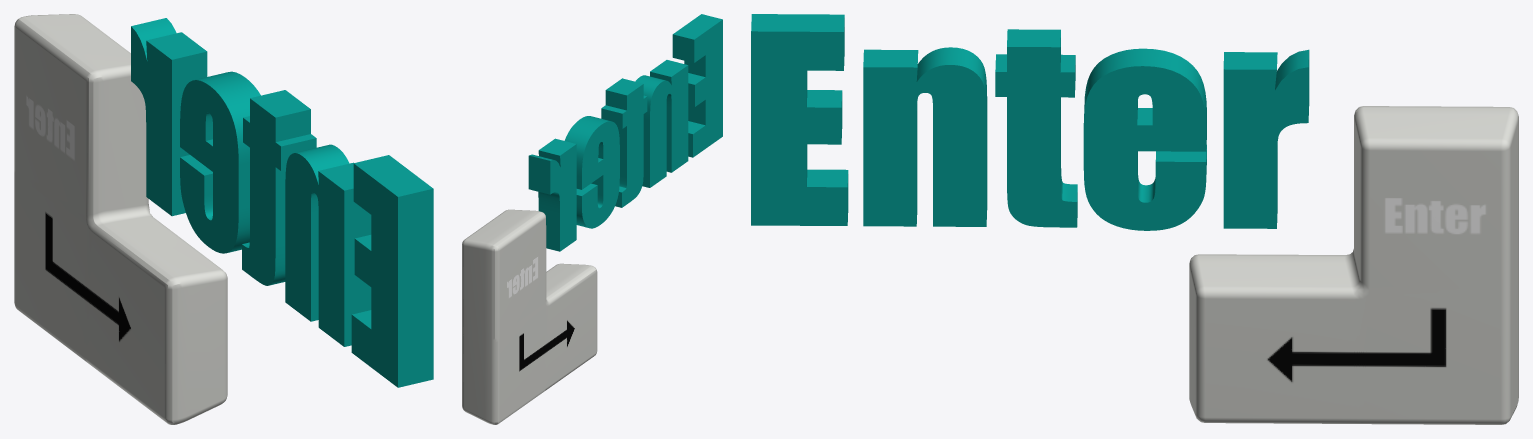
The model's file is HSBC Entorno_10_CAPAS_BOTONES Enter Cultura.fbx.
3 renders of one model, left to right at view 1: azimuth 30°, elevation 25°; view 2: azimuth 150°, elevation 25°; view 3: azimuth 270°, elevation 25°, orthographic. The views are drawn at different scales.
Parts seen in each view (by area): view 1: letras_enter.004, enter.004; view 2: letras_enter.004, enter.004; view 3: letras_enter.004, enter.004.
Boxes of the visible parts, box(x1,y1,x2,y2) form: letras_enter.004: box(131, 18, 433, 387); enter.004: box(14, 14, 227, 424); letras_enter.004: box(528, 14, 722, 251); enter.004: box(462, 209, 597, 424); letras_enter.004: box(751, 14, 1309, 230); enter.004: box(1189, 106, 1518, 424).
Size of the model in its own units: 15.03 by 80.57 by 143.
